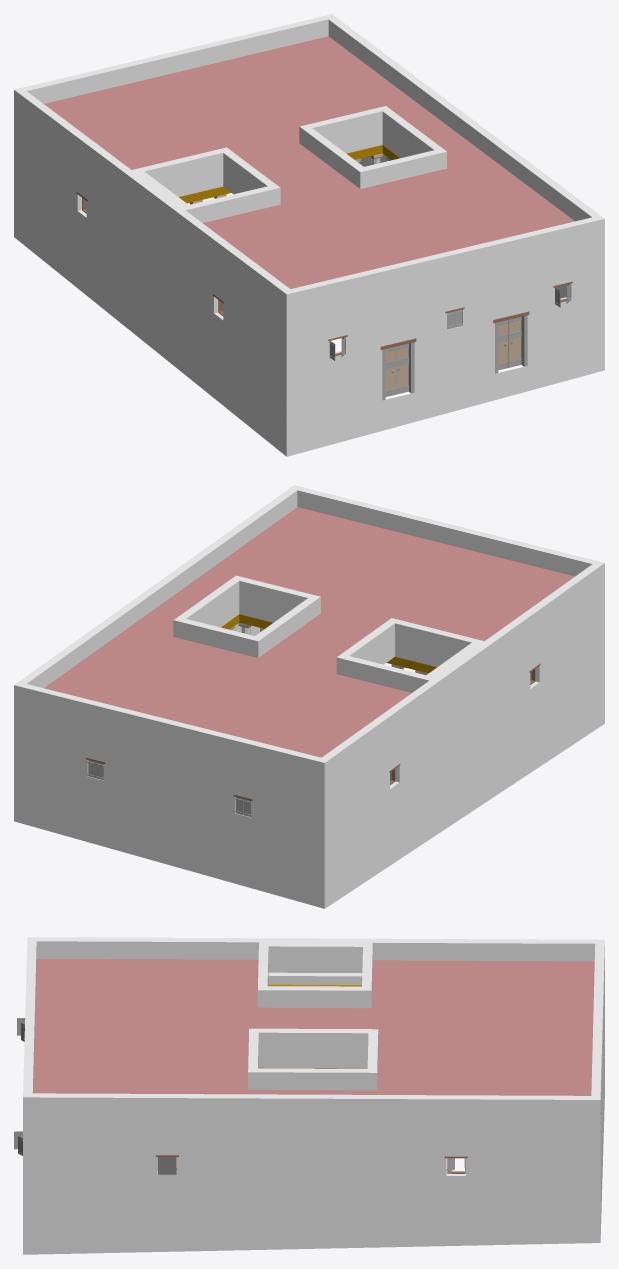
The model's file is LOD_Block_3_37.glb.
The picture shows the model from 3 angles, top to bottom: view 1: azimuth 30°, elevation 25°; view 2: azimuth 150°, elevation 25°; view 3: azimuth 270°, elevation 25°; orthographic projection. The views are drawn at different scales.
Parts seen in each view (by area): view 1: _1.4409; view 2: _1.4409; view 3: _1.4409.
Boxes of the visible parts, x1,y1,x2,y2 form: _1.4409: [14, 14, 604, 456]; _1.4409: [14, 485, 604, 908]; _1.4409: [14, 937, 604, 1254].
Size of the model in its own units: 19.92 by 9.63 by 30.55.
Materials: 21 (2 with a texture image).
